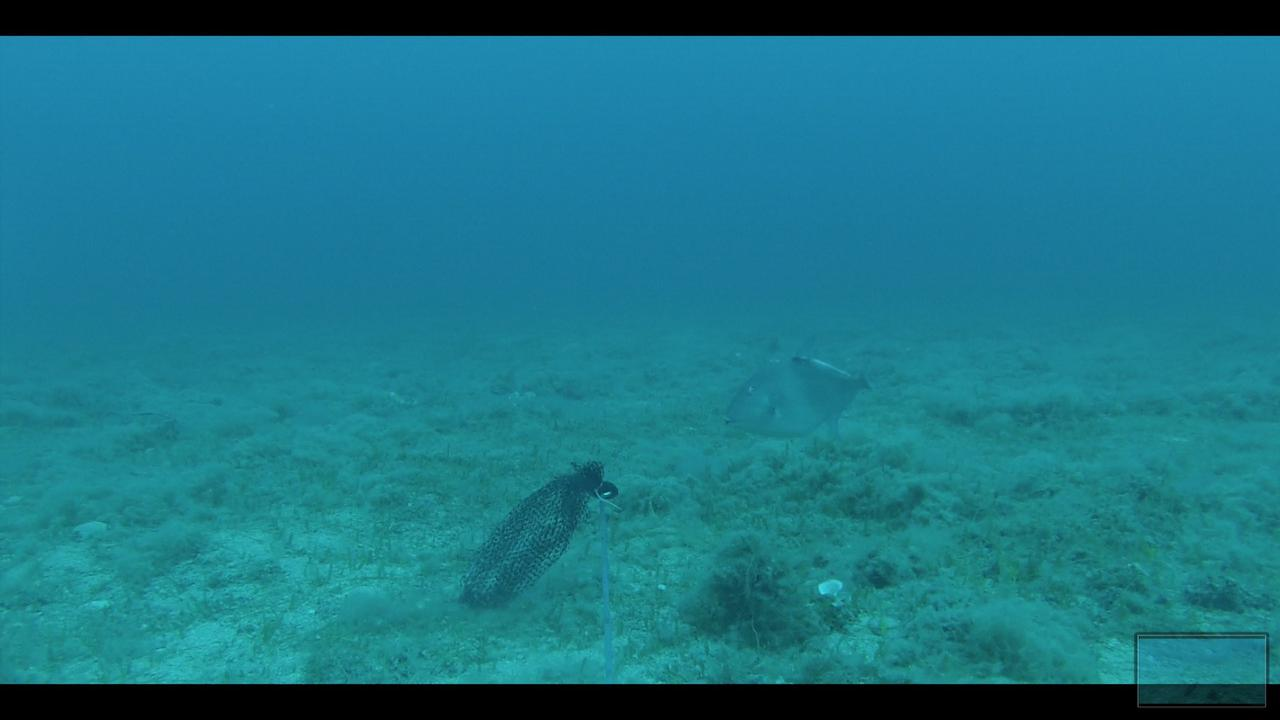balistes: (718, 331, 913, 451)
